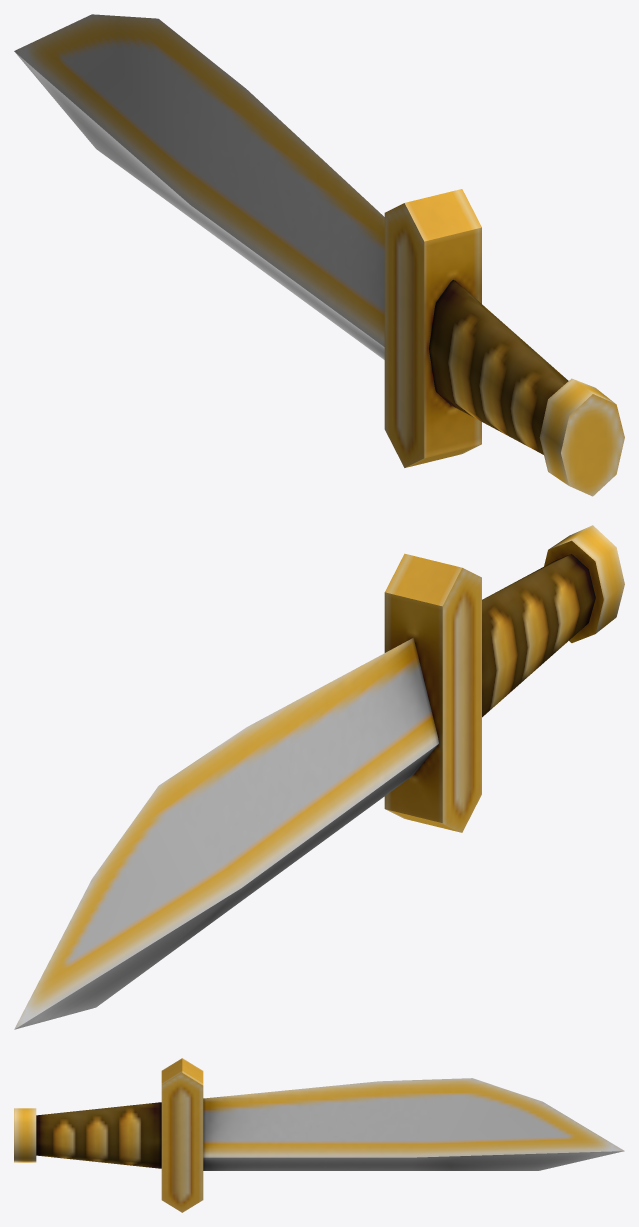
The model's file is knife003.fbx.
3 renders of one model, top to bottom at view 1: azimuth 30°, elevation 25°; view 2: azimuth 150°, elevation 25°; view 3: azimuth 270°, elevation 25°, orthographic. The views are drawn at different scales.
Visible parts, largest first — view 1: knife003; view 2: knife003; view 3: knife003.
Boxes of the visible parts, x1,y1,x2,y2 form: knife003: (14,14,624,496); knife003: (14,525,624,1029); knife003: (14,1058,624,1212).
Bounding box in the file's own units: 0.0265 × 0.1049 × 0.4149.
